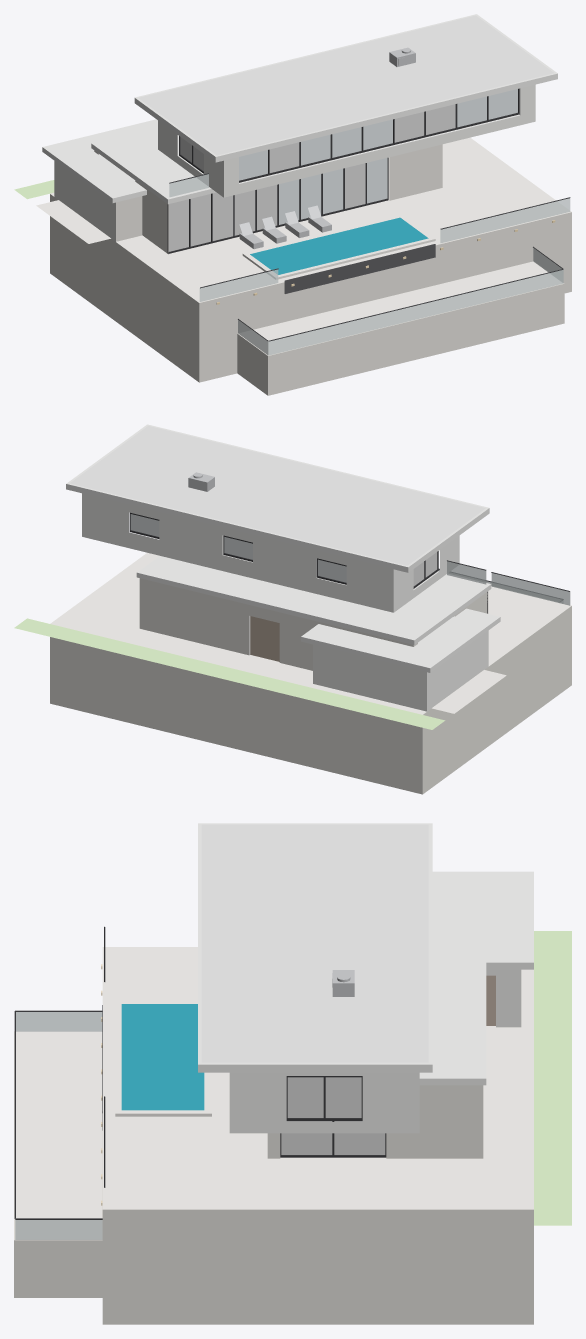
Rendered from mansion_w110b.glb.
3 views of the same model, one above another, from view 1: azimuth 30°, elevation 25°; view 2: azimuth 150°, elevation 25°; view 3: azimuth 270°, elevation 25° (orthographic). The views are drawn at different scales.
Visible parts, largest first — view 1: mansion_w110b_Walls2, mansion_w110b_Site, mansion_w110b_Roof, mansion_w110b_Trim, mansion_w110b_Clear, mansion_w110b_WindowsLit, mansion_w110b_Walls, mansion_w110b_Glass, mansion_w110b_Water, mansion_w110b_Frames, mansion_w110b_Accent, mansion_w110b_Details; view 2: mansion_w110b_Walls2, mansion_w110b_Roof, mansion_w110b_Walls, mansion_w110b_Trim, mansion_w110b_Site, mansion_w110b_Lawn, mansion_w110b_Clear, mansion_w110b_Glass, mansion_w110b_Doors, mansion_w110b_Frames; view 3: mansion_w110b_Site, mansion_w110b_Walls2, mansion_w110b_Roof, mansion_w110b_Trim, mansion_w110b_Lawn, mansion_w110b_Walls, mansion_w110b_Water, mansion_w110b_WindowsLit, mansion_w110b_Clear, mansion_w110b_Frames.
Boxes of the visible parts, x1,y1,x2,y2 form: mansion_w110b_Walls2: [50, 144, 571, 395]; mansion_w110b_Site: [36, 137, 571, 354]; mansion_w110b_Roof: [138, 15, 553, 155]; mansion_w110b_Trim: [42, 14, 557, 204]; mansion_w110b_Clear: [169, 174, 570, 355]; mansion_w110b_WindowsLit: [168, 104, 455, 251]; mansion_w110b_Walls: [54, 84, 535, 241]; mansion_w110b_Glass: [239, 89, 517, 224]; mansion_w110b_Water: [250, 217, 428, 274]; mansion_w110b_Frames: [167, 88, 570, 341]; mansion_w110b_Accent: [284, 244, 435, 293]; mansion_w110b_Details: [239, 47, 415, 249]; mansion_w110b_Walls2: [50, 578, 571, 794]; mansion_w110b_Roof: [70, 426, 485, 565]; mansion_w110b_Walls: [82, 493, 488, 711]; mansion_w110b_Trim: [66, 424, 500, 672]; mansion_w110b_Site: [50, 552, 571, 714]; mansion_w110b_Lawn: [14, 618, 445, 729]; mansion_w110b_Clear: [438, 561, 570, 605]; mansion_w110b_Glass: [130, 514, 346, 582]; mansion_w110b_Doors: [250, 616, 279, 661]; mansion_w110b_Frames: [129, 512, 569, 613]; mansion_w110b_Site: [15, 947, 533, 1239]; mansion_w110b_Walls2: [14, 1031, 533, 1324]; mansion_w110b_Roof: [201, 824, 428, 1062]; mansion_w110b_Trim: [198, 823, 533, 1085]; mansion_w110b_Lawn: [534, 931, 571, 1225]; mansion_w110b_Walls: [229, 969, 521, 1133]; mansion_w110b_Water: [121, 1004, 204, 1110]; mansion_w110b_WindowsLit: [281, 1077, 385, 1154]; mansion_w110b_Clear: [15, 1012, 102, 1239]; mansion_w110b_Frames: [14, 926, 386, 1219].
Bounding box in the file's own units: 110 × 50.4 × 88.
